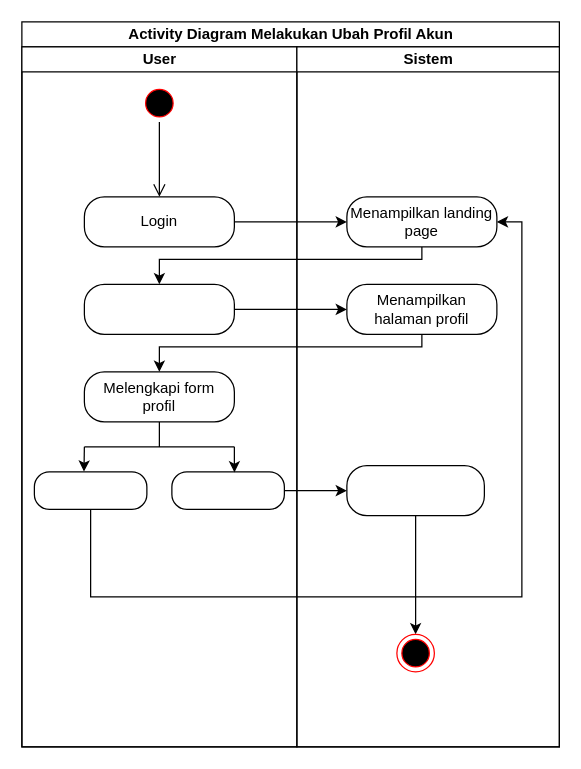
The diagram is 581 pixels wide and 769 high, and some of its shapes have lost their labels. The centre of each missing label's shape, as x and y in pixels:
Memilih Menu Profil: (x=158, y=308)
Menampilkan notif berhasil ubah profil: (x=415, y=490)
Menekan tombol kembali: (x=90, y=490)
Menekan tombol save: (x=227, y=490)
